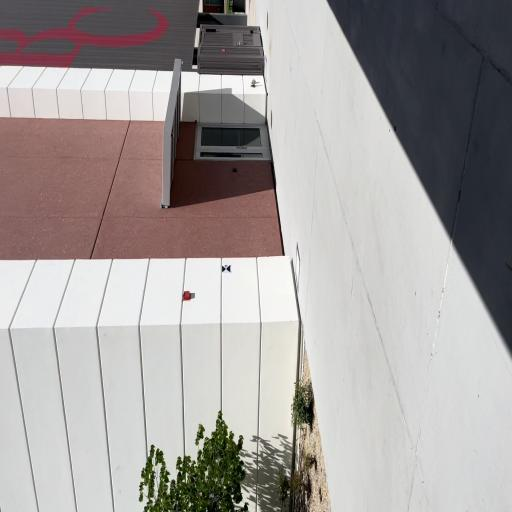target9: (222, 264, 231, 273)
